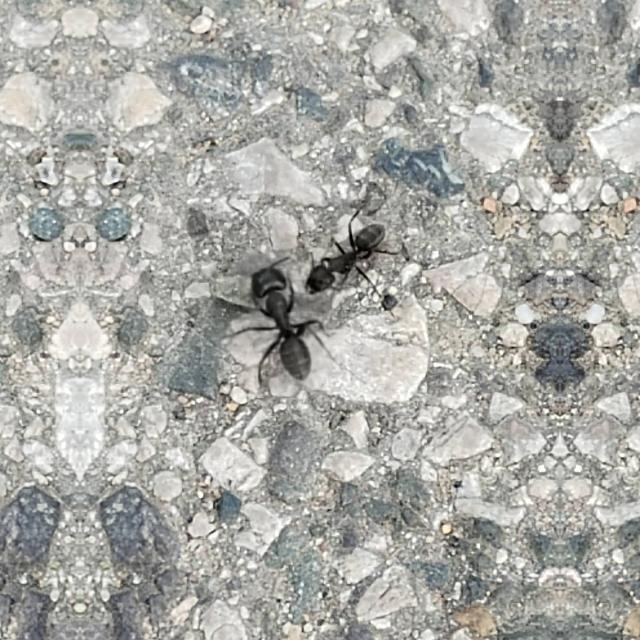Camponotus: (217, 219, 336, 391), (302, 204, 391, 300)
